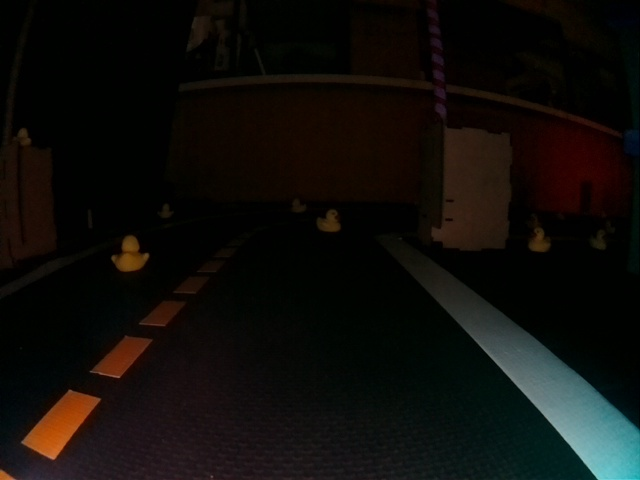Duckie: (114, 235, 150, 270), (316, 209, 340, 230), (528, 227, 548, 250), (589, 230, 609, 251), (13, 127, 31, 145), (157, 203, 173, 219), (291, 198, 306, 213)
